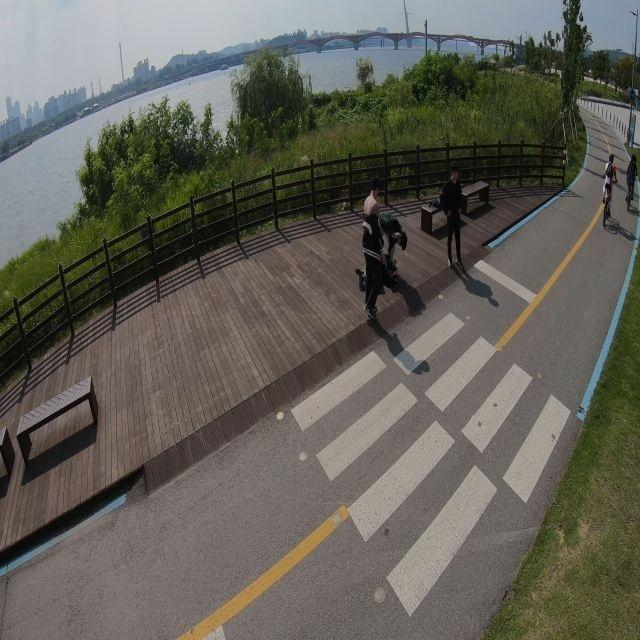fight: (359, 210, 408, 286)
non-fight: (440, 166, 467, 272), (363, 181, 381, 319)
